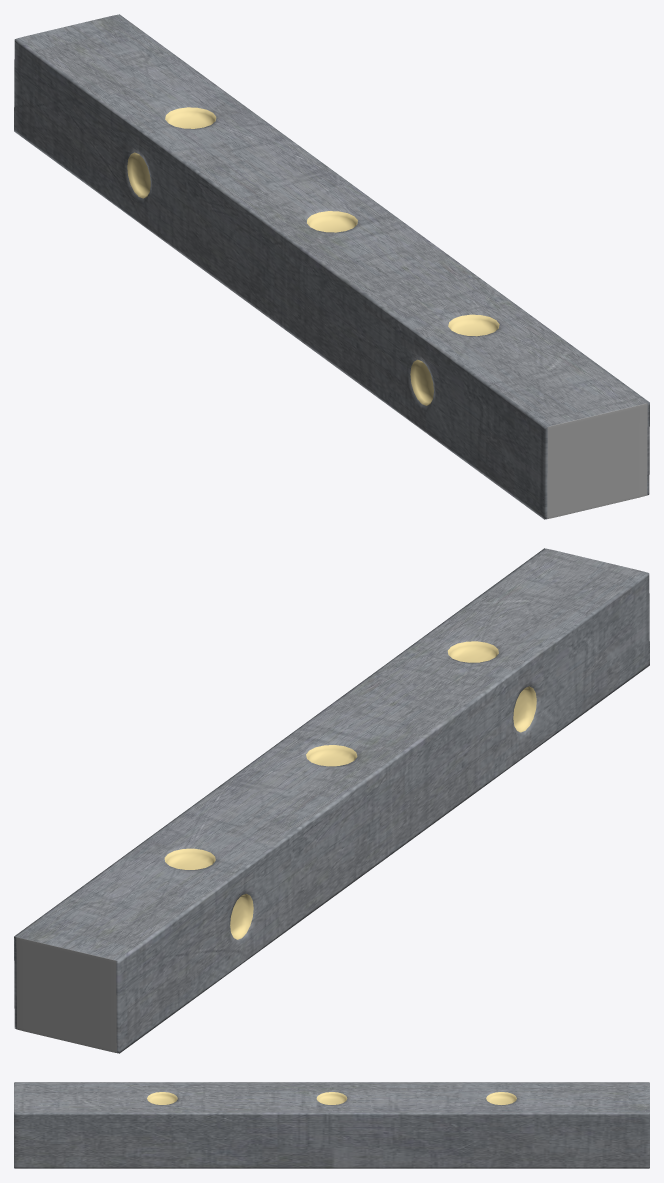
The model's file is dice.fbx.
The picture shows the model from 3 angles, top to bottom: view 1: azimuth 30°, elevation 25°; view 2: azimuth 150°, elevation 25°; view 3: azimuth 270°, elevation 25°; orthographic projection. The views are drawn at different scales.
Visible parts, largest first — view 1: pCube1; view 2: pCube1; view 3: pCube1.
Part boxes in pixels (<box>): pCube1: <box>14,14,649,519</box>; pCube1: <box>14,548,649,1053</box>; pCube1: <box>14,1082,649,1168</box>.
Size of the model in its own units: 0.3575 by 0.3016 by 3.11.
Materials: 3 (1 with a texture image).
